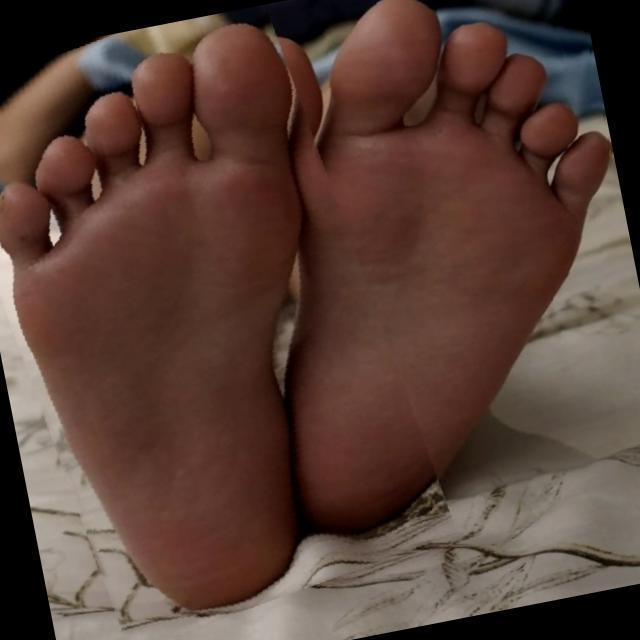No_Shoes: (294, 16, 614, 569), (0, 32, 281, 620)
